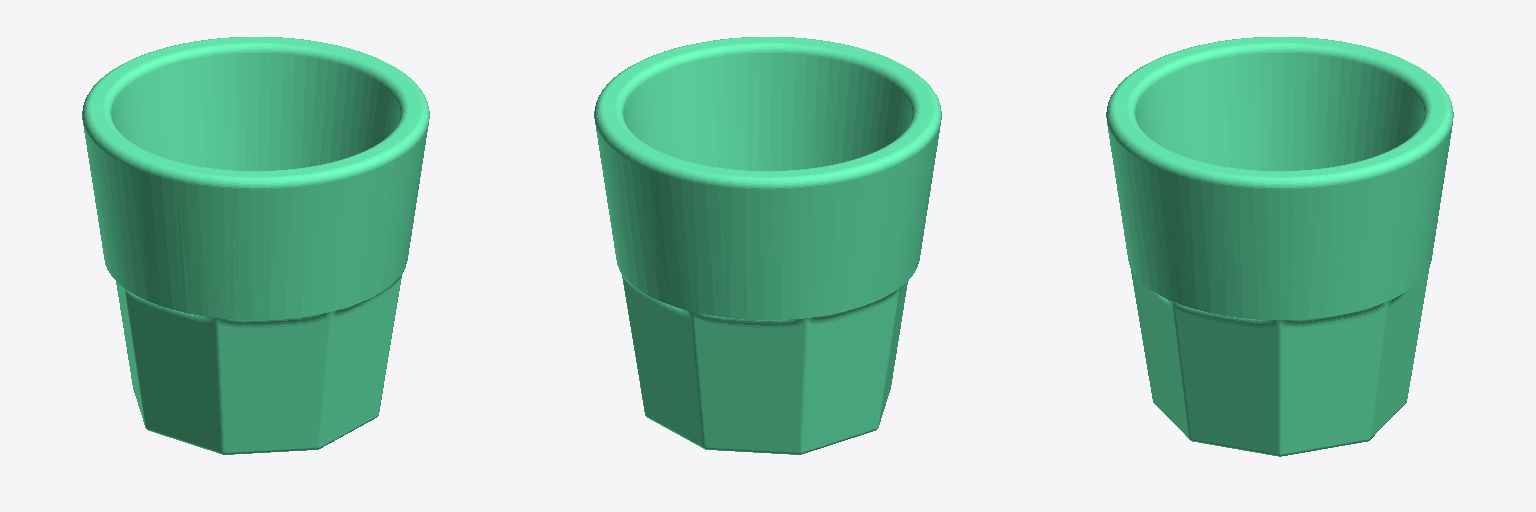
File: drinking_glass.obj
3 renders of one model, left to right at view 1: azimuth 30°, elevation 25°; view 2: azimuth 150°, elevation 25°; view 3: azimuth 270°, elevation 25°, orthographic.
Parts seen in each view (by area): view 1: b1cdc60832a245db8aaa392aafbdde81; view 2: b1cdc60832a245db8aaa392aafbdde81; view 3: b1cdc60832a245db8aaa392aafbdde81.
Boxes of the visible parts, <box> form: b1cdc60832a245db8aaa392aafbdde81: <box>82,37,429,454</box>; b1cdc60832a245db8aaa392aafbdde81: <box>594,37,941,454</box>; b1cdc60832a245db8aaa392aafbdde81: <box>1106,37,1453,456</box>.
Bounding box in the file's own units: 0.1511 × 0.1428 × 0.1511.